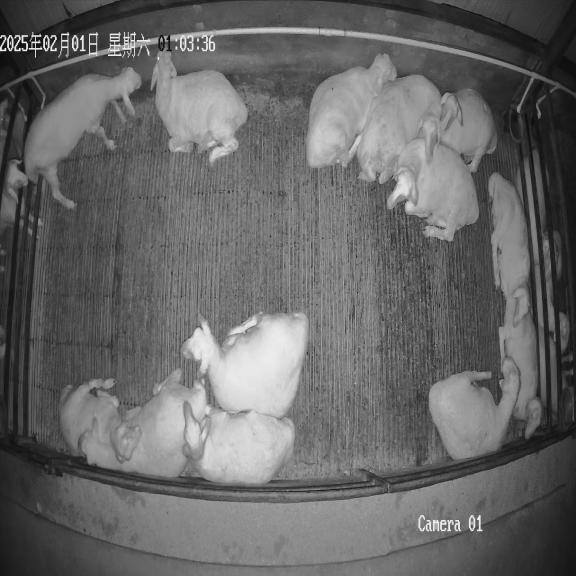lying: (80, 369, 208, 478), (181, 313, 309, 418), (151, 51, 248, 164), (306, 54, 397, 168), (387, 137, 479, 241), (182, 401, 295, 485), (429, 358, 520, 460), (357, 75, 441, 184), (59, 378, 141, 463), (488, 172, 530, 323), (499, 296, 543, 439), (438, 89, 497, 173)
stand: (22, 67, 141, 209)
